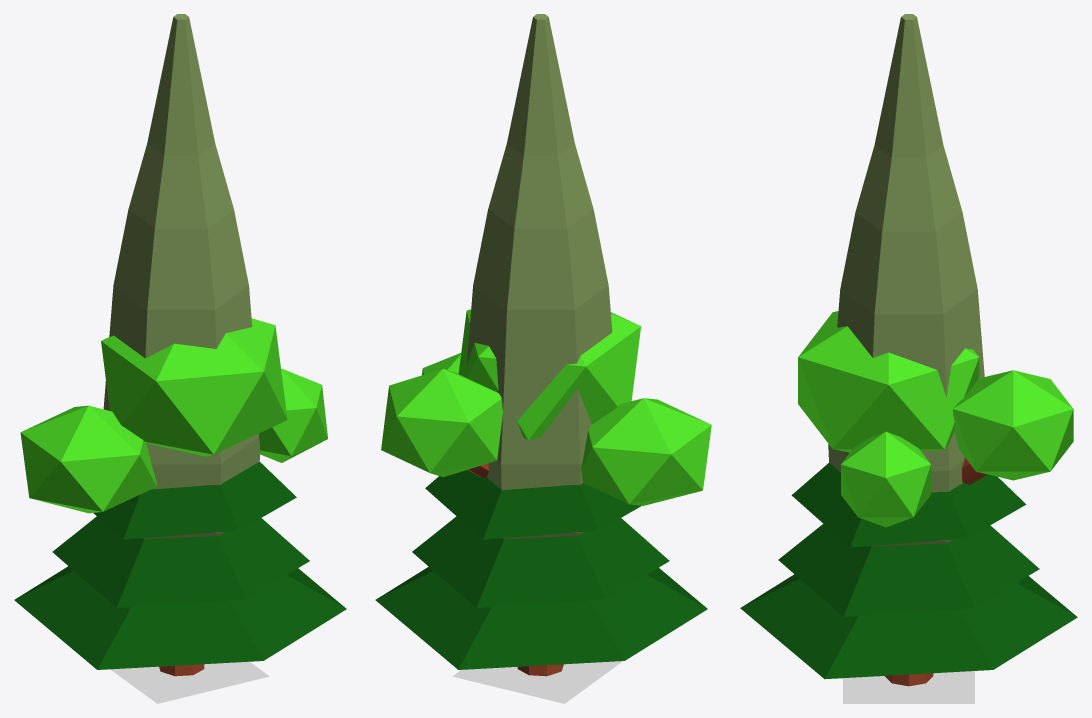
File: trees.glb
The picture shows the model from 3 angles, left to right: view 1: azimuth 30°, elevation 25°; view 2: azimuth 150°, elevation 25°; view 3: azimuth 270°, elevation 25°; orthographic projection.
Visible parts, largest first — view 1: Leaves, Cylinder.005, Icosphere.003, Icosphere, Icosphere.001, Plane; view 2: Leaves, Cylinder.005, Icosphere, Icosphere.002, Icosphere.003, Plane; view 3: Leaves, Cylinder.005, Icosphere.003, Icosphere.002, Icosphere.001, Plane.
Boxes of the visible parts, x1,y1,x2,y2 form: Leaves: [14, 461, 346, 669]; Cylinder.005: [103, 14, 260, 538]; Icosphere.003: [101, 318, 287, 456]; Icosphere: [20, 405, 156, 513]; Icosphere.001: [258, 368, 327, 462]; Plane: [110, 661, 269, 703]; Leaves: [375, 470, 707, 669]; Cylinder.005: [466, 14, 612, 539]; Icosphere: [581, 398, 711, 505]; Icosphere.002: [381, 369, 502, 477]; Icosphere.003: [458, 309, 640, 440]; Plane: [452, 661, 622, 703]; Leaves: [740, 463, 1077, 679]; Cylinder.005: [828, 14, 984, 546]; Icosphere.003: [798, 311, 979, 452]; Icosphere.002: [953, 370, 1073, 480]; Icosphere.001: [841, 431, 930, 527]; Plane: [843, 671, 974, 703].
Bounding box in the file's own units: 2.55 × 5.52 × 2.56.
